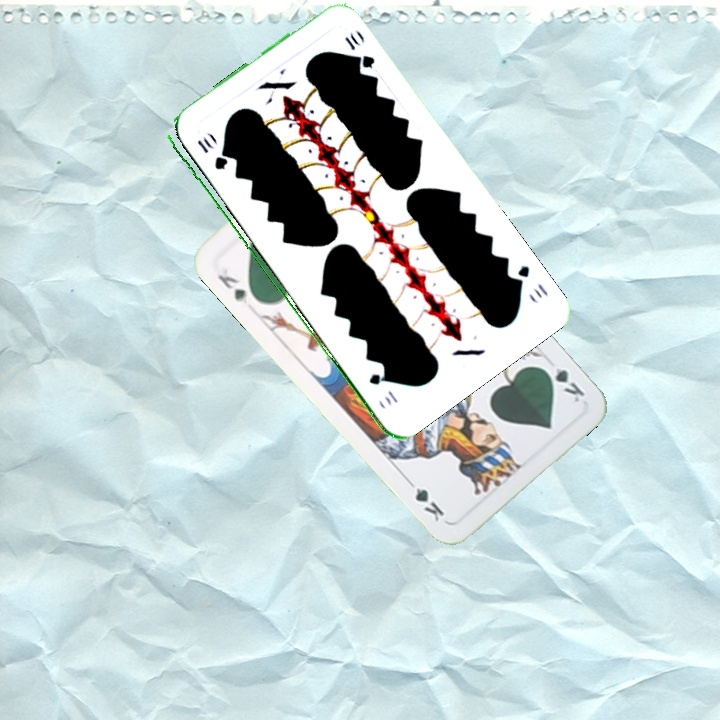G10: (507, 261, 551, 300), (193, 133, 228, 173)
GK: (537, 361, 588, 405), (213, 270, 251, 307)
